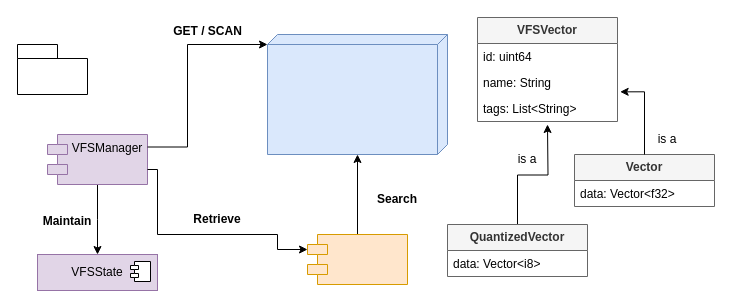
This 732x308 diagram has some shape labels left out. Here are the shapes that lost their labels. From the top down, the centre of each, then its label:
the point at 52,69: VFS
the point at 357,94: ALMACENAMIENTO VECTORIAL OPTIMIZADO
the point at 357,259: Ranker
